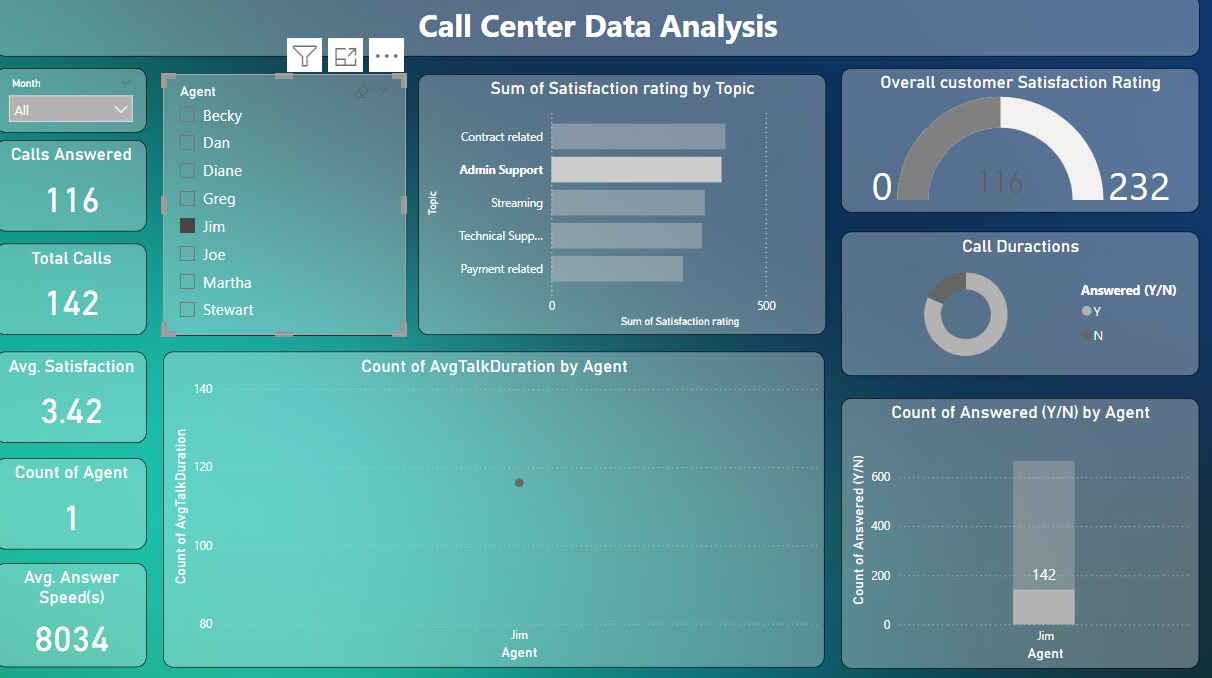

What the dashboard file says about the page in this screenshot:
{"tool":"powerbi","page":{"name":"Page 1","canvas":[1280,720],"ordinal":0},"visuals":[{"type":"textbox","box":[9.5,5.4,1255.4,64.6],"z":0},{"type":"card","title":"Calls Answered","fields":{"Values":["Sheet1.AvgTalkDuration"]},"box":[9.5,156,157.9,95.1],"z":1000},{"type":"card","title":"Total Calls","fields":{"Values":["Sheet1.Answered (Y/N)"]},"box":[9.5,264.4,157.9,95.1],"z":2000},{"type":"card","title":"Avg. Answer Speed(s)","fields":{"Values":["Sheet1.Speed of answer in seconds"]},"box":[9.5,597.2,157.9,108.4],"z":3000},{"type":"card","title":"Avg. Satisfaction","fields":{"Values":["Sheet1.Satisfaction rating"]},"box":[9.5,376.6,157.9,95.1],"z":4000},{"type":"card","title":"Count of Agent","fields":{"Values":["Sheet1.Agent"]},"box":[9.5,486.9,157.9,95.1],"z":5000},{"type":"slicer","fields":{"Values":["Sheet1.Date.Variation.Date Hierarchy.Month"]},"box":[9.4,81.8,158.2,67.1],"z":6000},{"type":"gauge","title":"Overall customer Satisfaction Rating","fields":{"Y":["Sheet1.Satisfaction rating"]},"box":[891.4,81.9,373.3,150.5],"z":7000},{"type":"donutChart","title":"Call Duractions","fields":{"Category":["Sheet1.Answered (Y/N)"],"Y":["Sheet1.Call Id"]},"box":[891.4,251.4,373.3,150.5],"z":8000},{"type":"columnChart","fields":{"Category":["Sheet1.Agent"],"Y":["Sheet1.Answered (Y/N)"]},"box":[891.4,424.8,373.3,281.9],"z":9000},{"type":"areaChart","fields":{"Category":["Sheet1.Agent"],"Y":["Sheet1.AvgTalkDuration"]},"box":[184.8,377.1,689.5,329.5],"z":10000},{"type":"slicer","fields":{"Values":["Sheet1.Agent"]},"box":[184.8,87.6,253.3,272.4],"z":11000},{"type":"barChart","fields":{"Category":["Sheet1.Topic"],"Y":["Sheet1.Satisfaction rating"]},"box":[450,88.2,425,272.1],"z":12000}]}

Visuals, with their boxes in screenshot pixels (x1, y1, x2, y2):
textbox: [0, 0, 1200, 52]
"Calls Answered" card: [0, 135, 142, 226]
"Total Calls" card: [0, 239, 142, 331]
"Avg. Answer Speed(s)" card: [0, 560, 142, 664]
"Avg. Satisfaction" card: [0, 347, 142, 439]
"Count of Agent" card: [0, 453, 142, 545]
slicer - Sheet1.Date.Variation.Date Hierarchy.Month: [0, 63, 143, 128]
"Overall customer Satisfaction Rating" gauge: [840, 63, 1200, 208]
"Call Duractions" donutChart: [840, 226, 1200, 371]
columnChart - Sheet1.Agent x Sheet1.Answered (Y/N): [840, 394, 1200, 665]
areaChart - Sheet1.Agent x Sheet1.AvgTalkDuration: [159, 348, 824, 665]
slicer - Sheet1.Agent: [159, 69, 403, 331]
barChart - Sheet1.Topic x Sheet1.Satisfaction rating: [415, 69, 824, 331]
